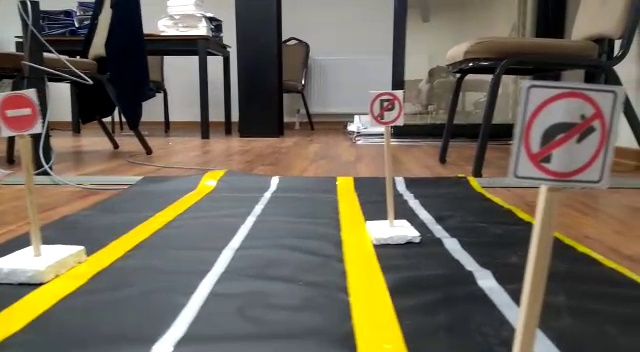girisi_olmayan_yol: (2, 94, 37, 131)
park_yapilmaz: (369, 91, 405, 126)
saga_donulmez: (518, 85, 608, 179)
